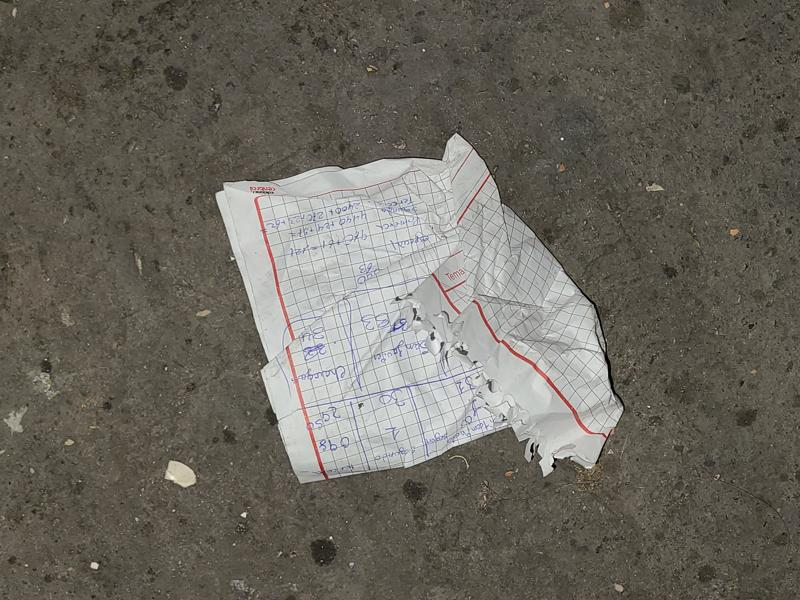papel: (215, 135, 625, 487)
